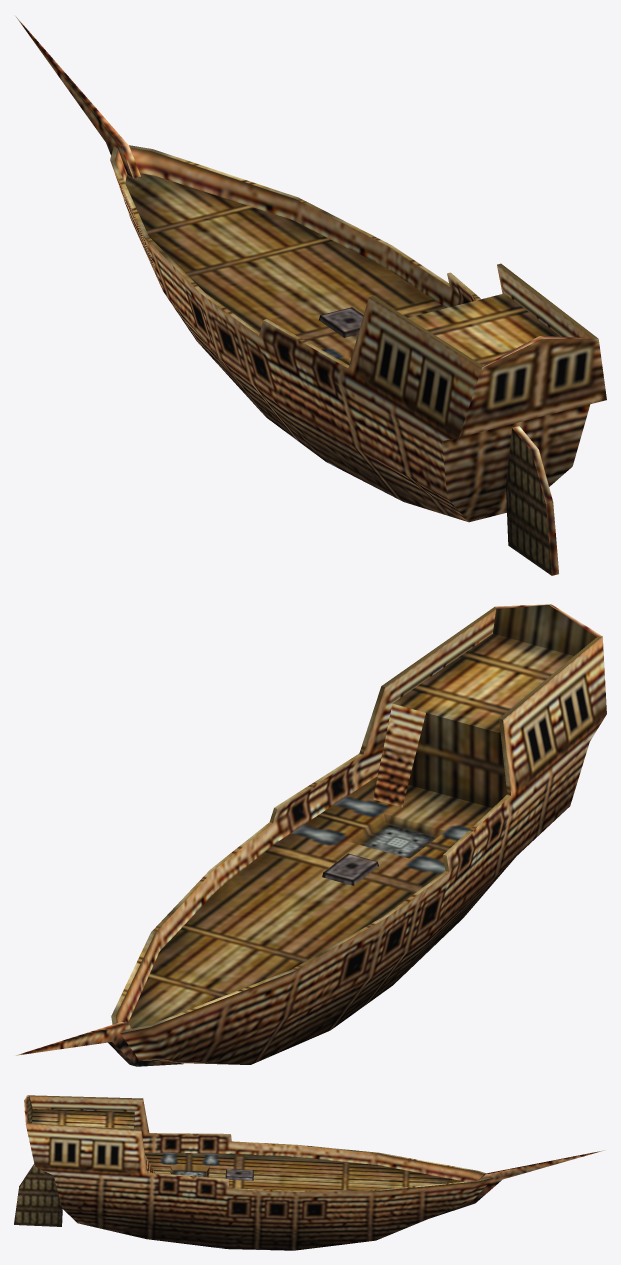
Rendered from boatNewleft.fbx.
The picture shows the model from 3 angles, top to bottom: view 1: azimuth 30°, elevation 25°; view 2: azimuth 150°, elevation 25°; view 3: azimuth 270°, elevation 25°; orthographic projection. The views are drawn at different scales.
Visible parts, largest first — view 1: polySurface36, polySurface40, polySurface41, polySurface42; view 2: polySurface36, polySurface39, polySurface41, polySurface42; view 3: polySurface36, polySurface40, polySurface41, polySurface42.
Part boxes in pixels (x1,y1,x2,y2): polySurface36: (110, 145, 606, 522); polySurface40: (506, 426, 558, 575); polySurface41: (15, 15, 140, 178); polySurface42: (319, 307, 363, 337); polySurface36: (111, 604, 606, 1064); polySurface39: (373, 703, 425, 807); polySurface41: (16, 1022, 183, 1066); polySurface42: (322, 853, 378, 885); polySurface36: (24, 1095, 493, 1250); polySurface40: (14, 1164, 62, 1226); polySurface41: (430, 1150, 605, 1218); polySurface42: (225, 1169, 253, 1180).
Bounding box in the file's own units: 70.77 × 91.65 × 355.
